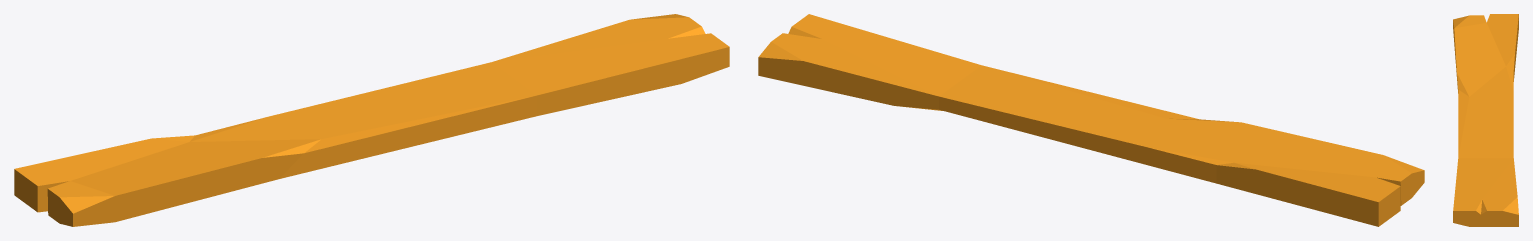
Rendered from SM_Prop_WoodPlank_01.fbx.
The picture shows the model from 3 angles, left to right: view 1: azimuth 30°, elevation 25°; view 2: azimuth 150°, elevation 25°; view 3: azimuth 270°, elevation 25°; orthographic projection. The views are drawn at different scales.
Parts seen in each view (by area): view 1: SM_Prop_WoodPlank_01; view 2: SM_Prop_WoodPlank_01; view 3: SM_Prop_WoodPlank_01.
Boxes of the visible parts, bbox=[...] form: SM_Prop_WoodPlank_01: bbox=[14, 14, 729, 226]; SM_Prop_WoodPlank_01: bbox=[758, 14, 1424, 226]; SM_Prop_WoodPlank_01: bbox=[1453, 14, 1518, 226].
Bounding box in the file's own units: 243 × 9.24 × 34.34.
